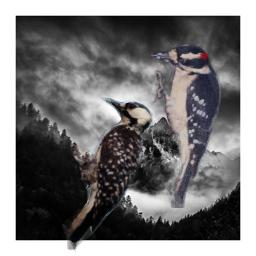Woodpecker: (63, 96, 163, 255), (150, 41, 224, 208)
